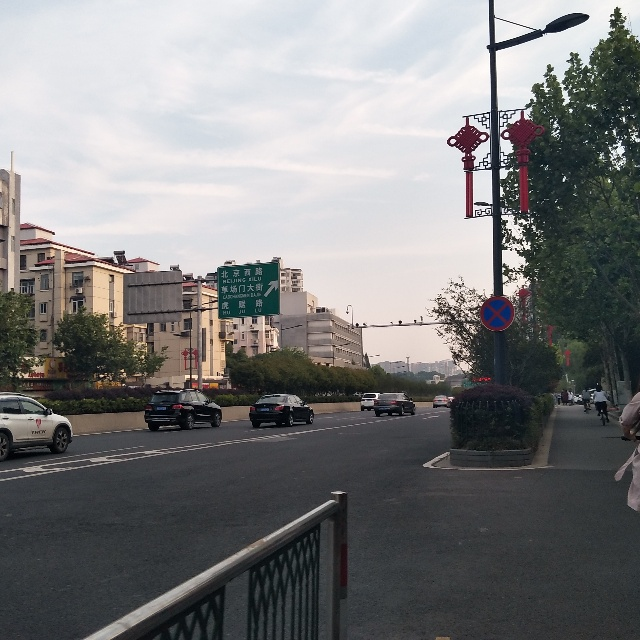stop: (479, 298, 513, 330)
